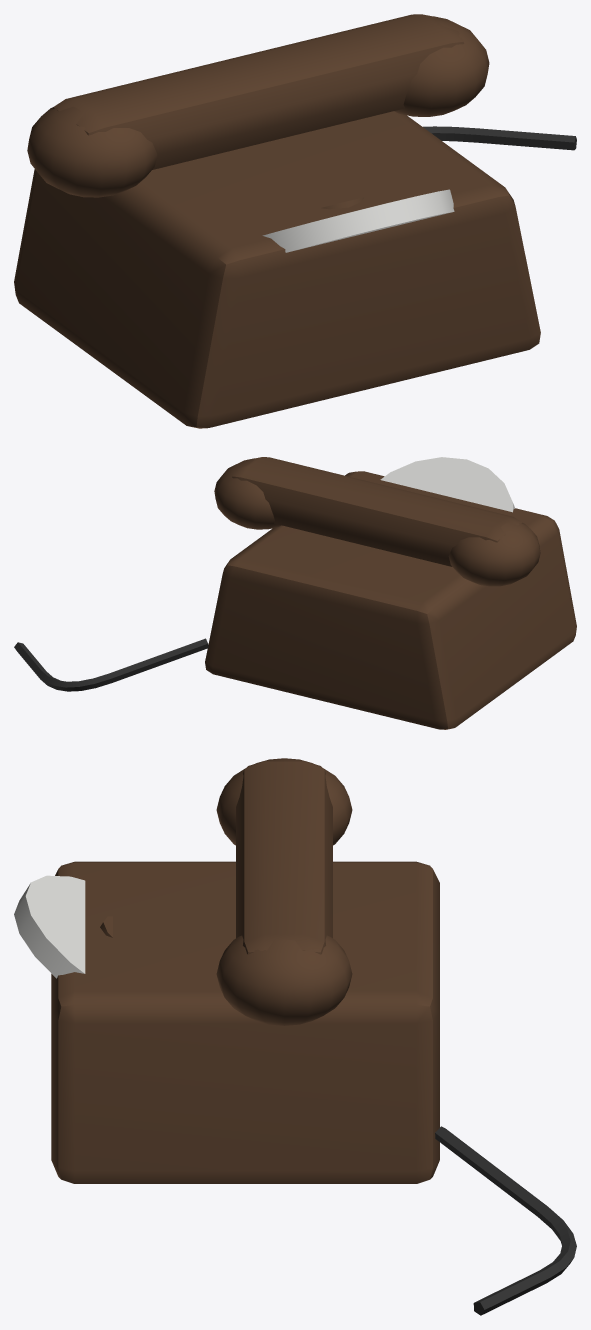
The model's file is SM_Phone_Rotary.fbx.
3 renders of one model, top to bottom at view 1: azimuth 30°, elevation 25°; view 2: azimuth 150°, elevation 25°; view 3: azimuth 270°, elevation 25°, orthographic. The views are drawn at different scales.
Visible parts, largest first — view 1: SM_Phone_Rotary_1; view 2: SM_Phone_Rotary_1; view 3: SM_Phone_Rotary_1.
Boxes of the visible parts, x1,y1,x2,y2 form: SM_Phone_Rotary_1: [14, 14, 576, 428]; SM_Phone_Rotary_1: [14, 457, 576, 729]; SM_Phone_Rotary_1: [14, 758, 576, 1315].
Bounding box in the file's own units: 38.76 × 14.87 × 28.99.
